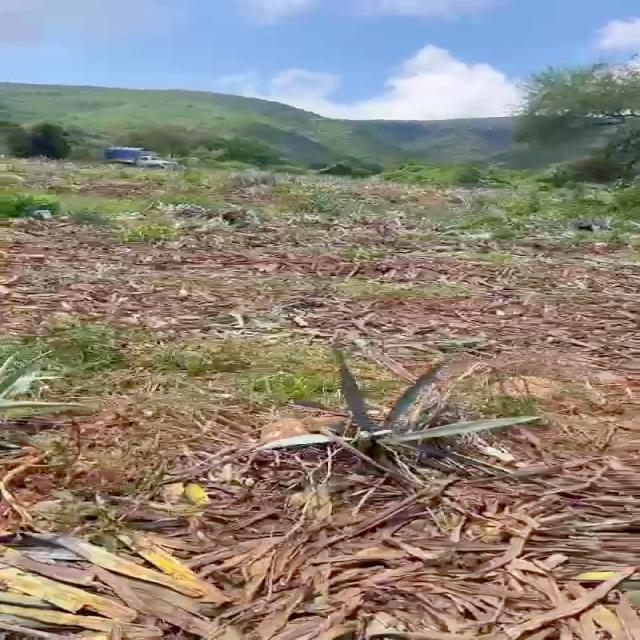agave: (249, 340, 558, 481)
